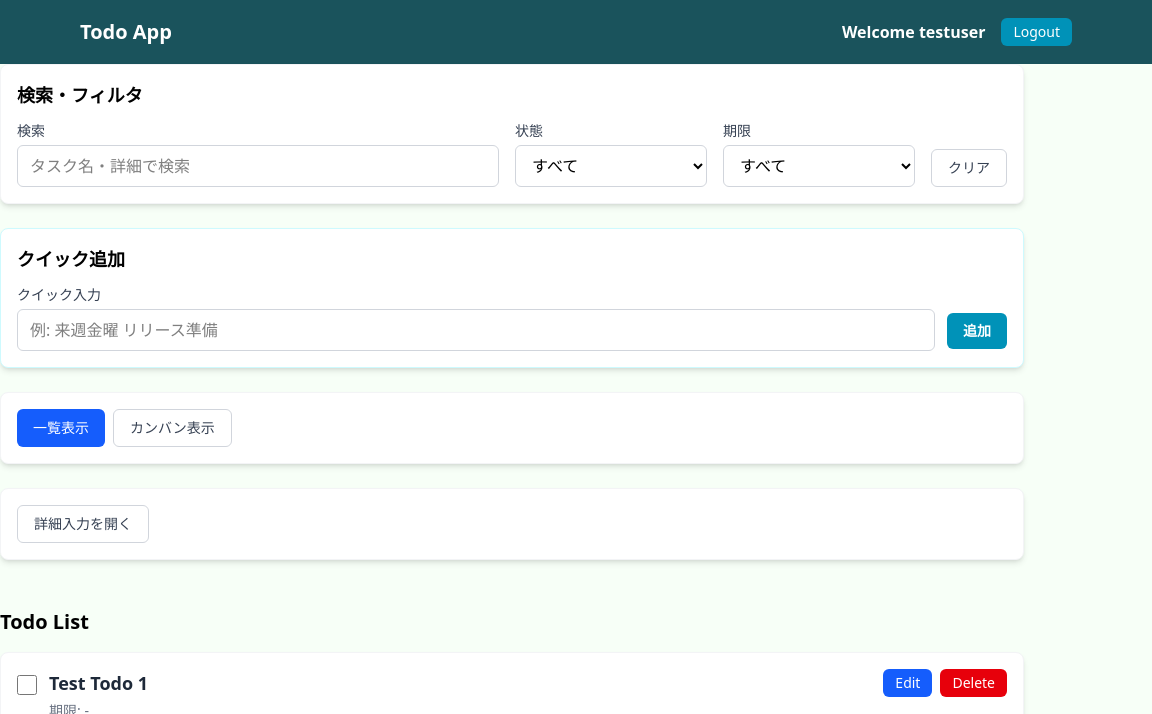
Test case: DashboardPage › 詳細フォーム › 繰り返し指定時に期限未入力だとバリデーションエラーになる
Check: the heading "Test Todo 1" is shown, box [49, 669, 148, 697]
Click the button "詳細入力を開く" at [83, 524], box [17, 505, 149, 543]
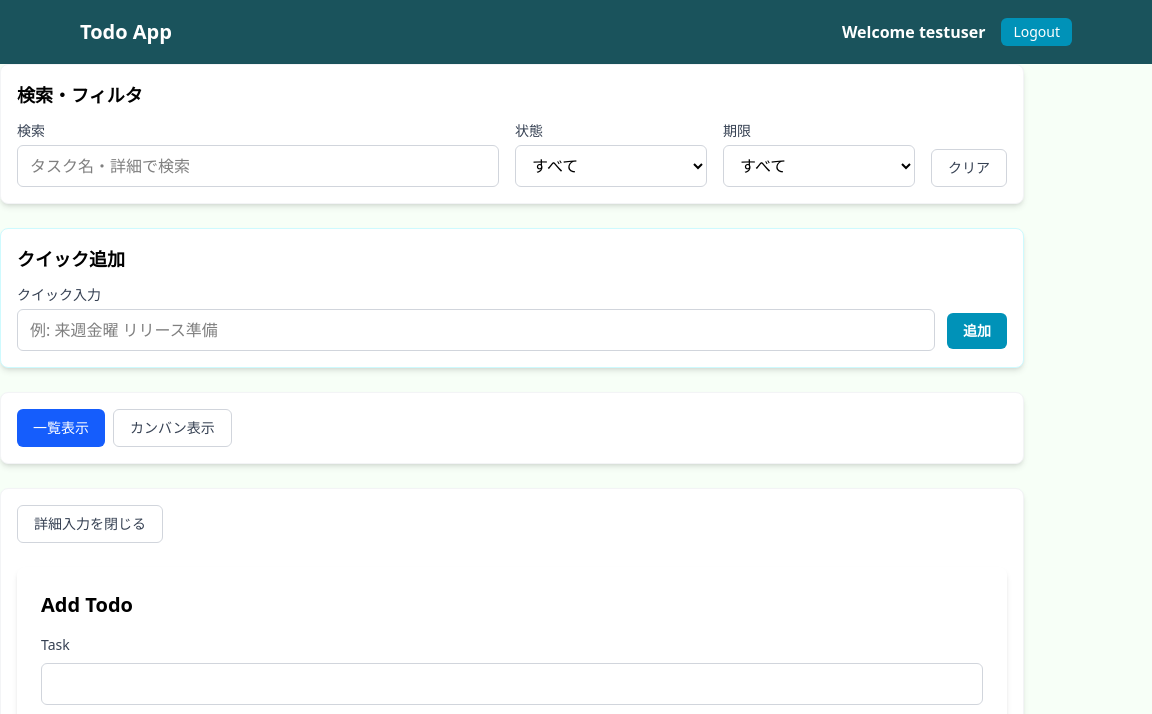
Check: the field labelled "Task" is shown
Type "Recurring Todo" into the field labelled "Task" at [512, 684], box [41, 663, 983, 705]
(page scrolled)
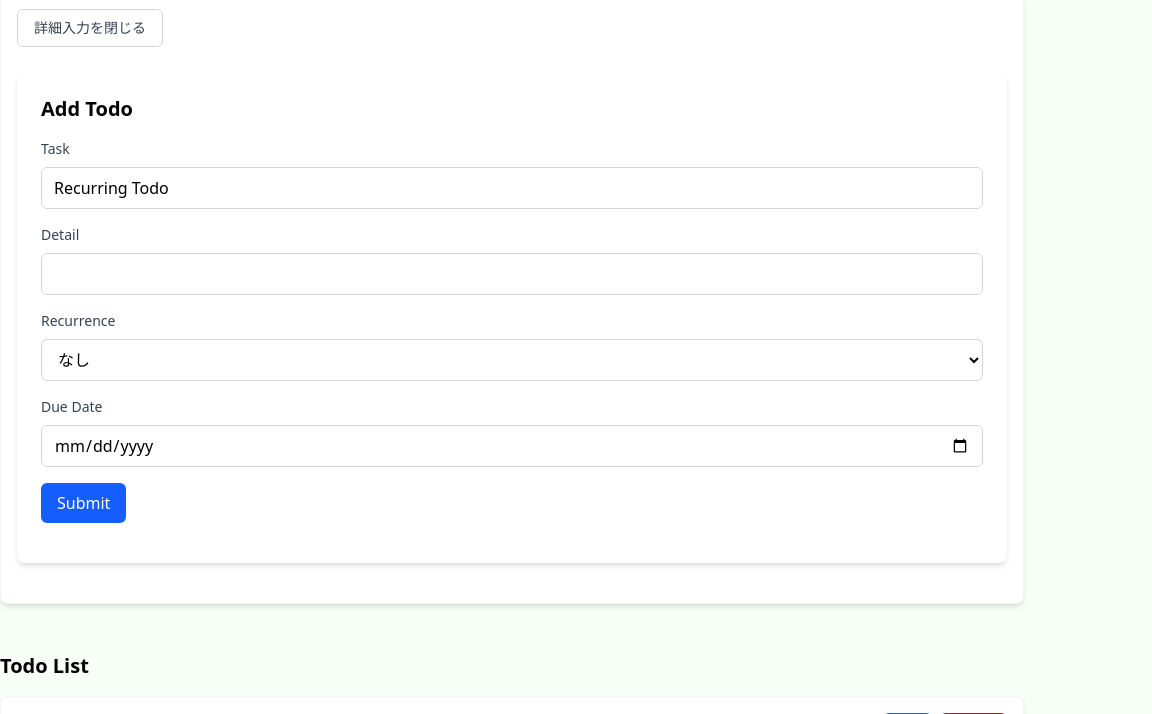
Select "毎週" in the dropdown labelled "Recurrence" at [512, 360], box [41, 339, 983, 381]
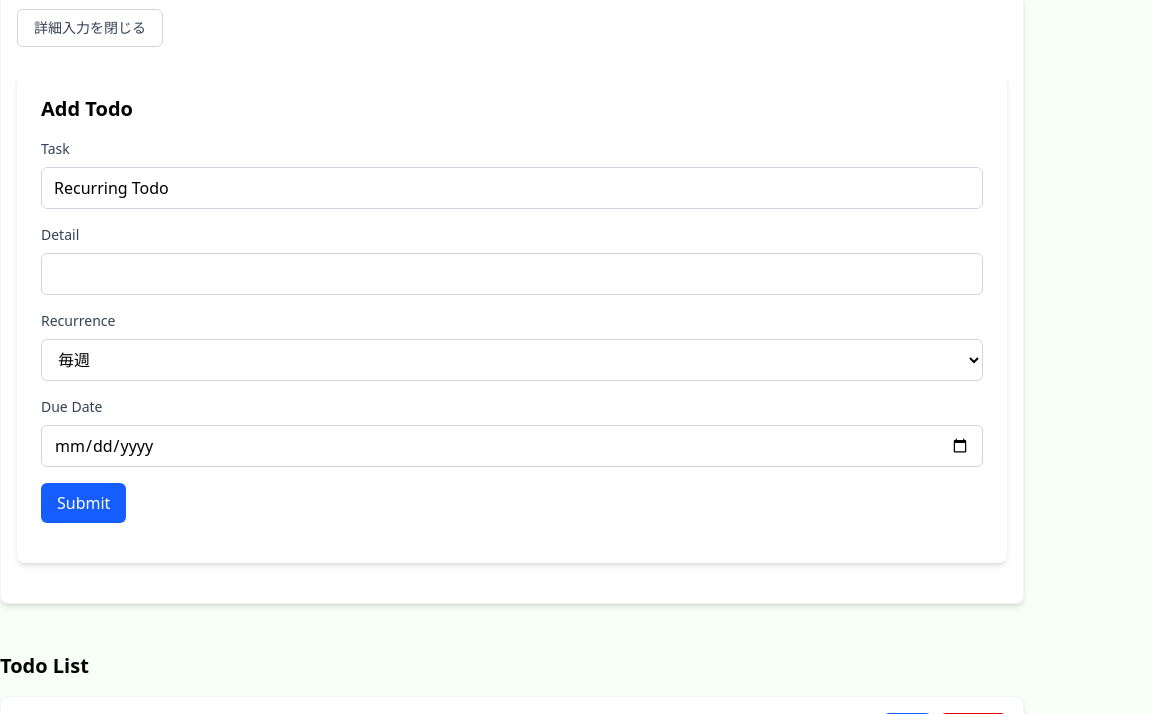
Click the button "Submit" at [84, 503], box [41, 483, 126, 523]
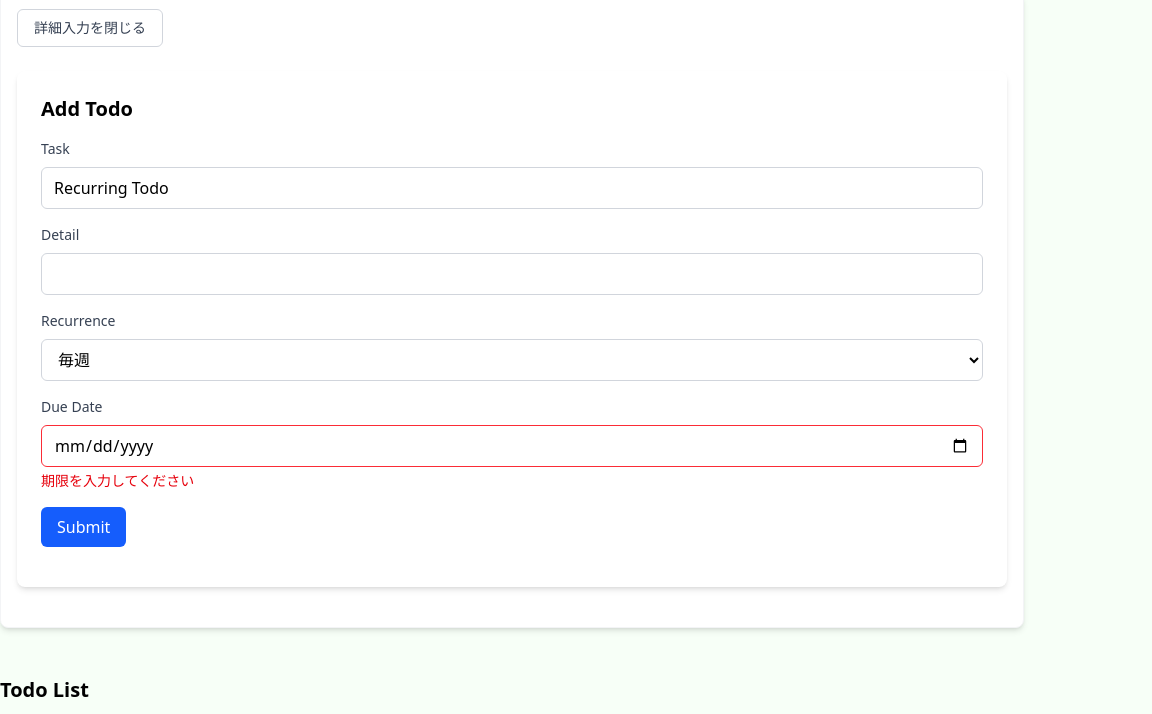
Check: the text "期限を入力してください" is shown, box [41, 471, 194, 490]
